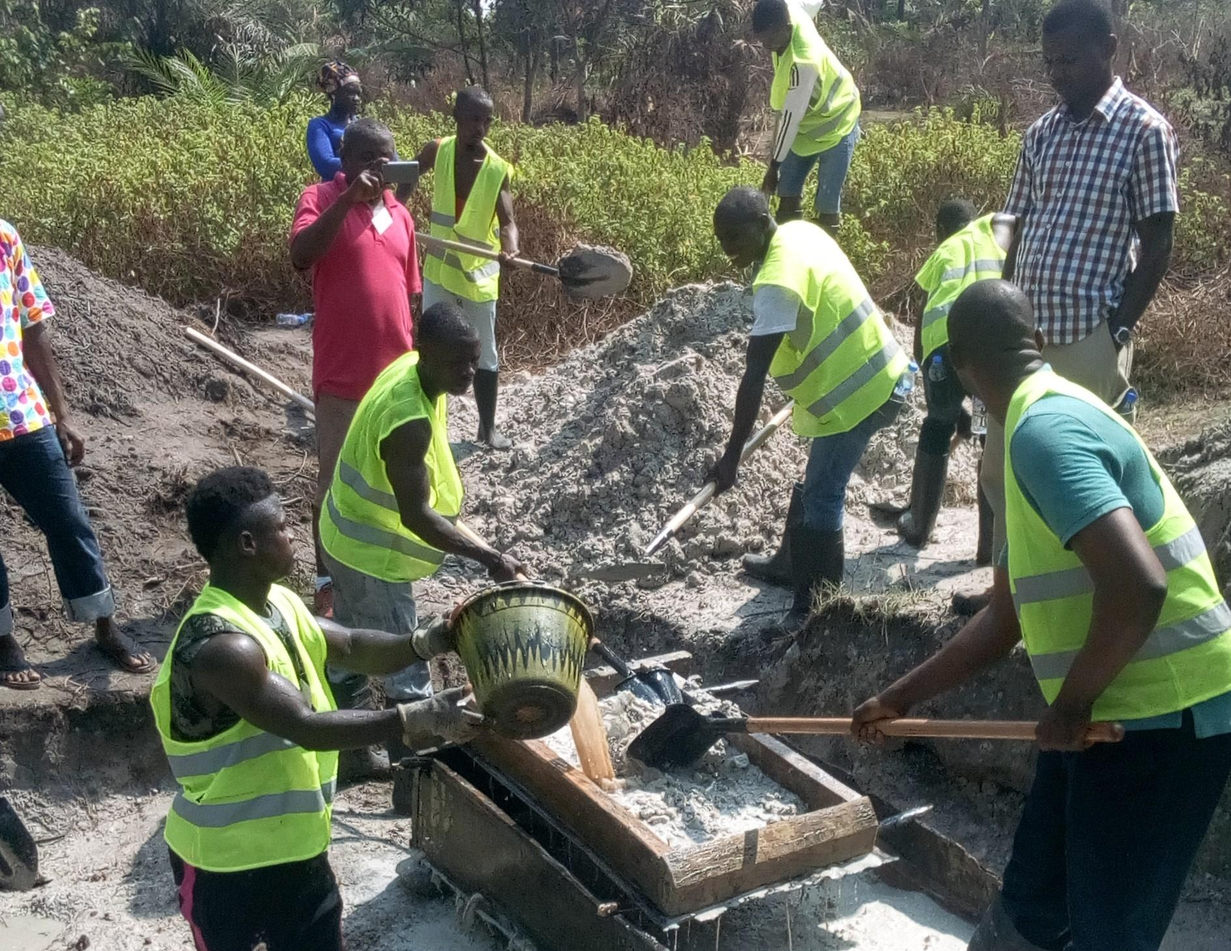MiningTool: (587, 364, 806, 598), (410, 231, 634, 302)
Person: (851, 280, 1231, 949), (145, 463, 483, 951), (952, 1, 1179, 624), (707, 188, 918, 606), (1, 210, 154, 681), (285, 118, 421, 607), (386, 85, 522, 451), (890, 196, 1018, 564), (737, 3, 863, 243), (309, 61, 372, 183)
ProcessingEquiment: (403, 651, 1025, 951)
